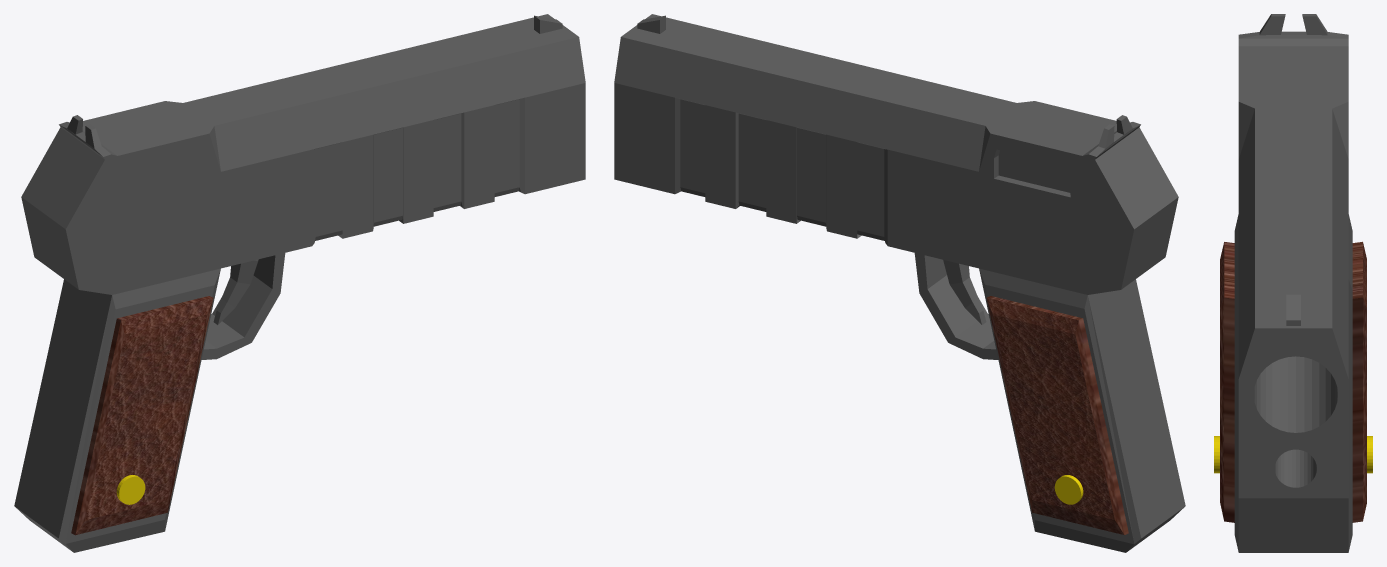
Rendered from Revolver.fbx.
3 views of the same model, side by side, from view 1: azimuth 30°, elevation 25°; view 2: azimuth 150°, elevation 25°; view 3: azimuth 270°, elevation 25° (orthographic). The views are drawn at different scales.
Visible parts, largest first — view 1: Cube; view 2: Cube; view 3: Cube.
Boxes of the visible parts, x1=… form: Cube: x1=14, y1=14, x2=585, y2=552; Cube: x1=614, y1=14, x2=1185, y2=552; Cube: x1=1214, y1=14, x2=1372, y2=552.
Bounding box in the file's own units: 97.79 × 72.24 × 20.68.
